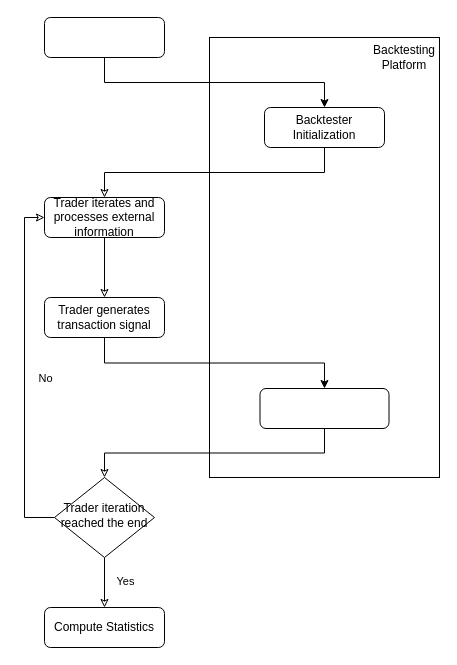
Image size: 457x665. Some labels were removed from this diagram. Each missing label, with the box of its shape:
Query Backtester to perform the transaction: (259, 388, 389, 428)
Trader Initialization: (44, 16, 164, 58)
